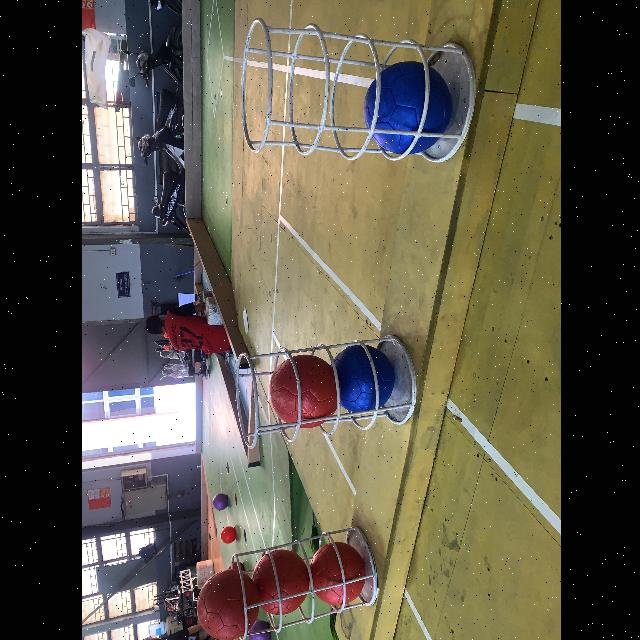B: (363, 62, 453, 154), (334, 342, 394, 414)
R: (266, 352, 336, 428), (193, 570, 257, 640), (310, 540, 370, 606), (254, 548, 308, 616)
